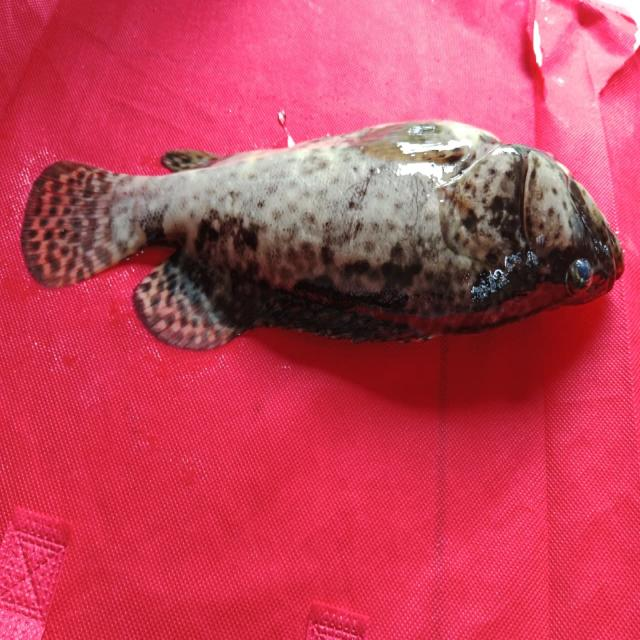ikan: (21, 104, 635, 371)
